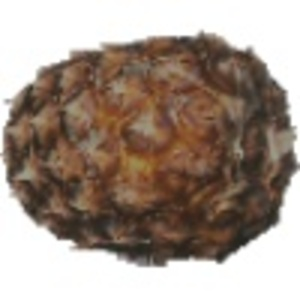abacaxi: (3, 34, 297, 255)
